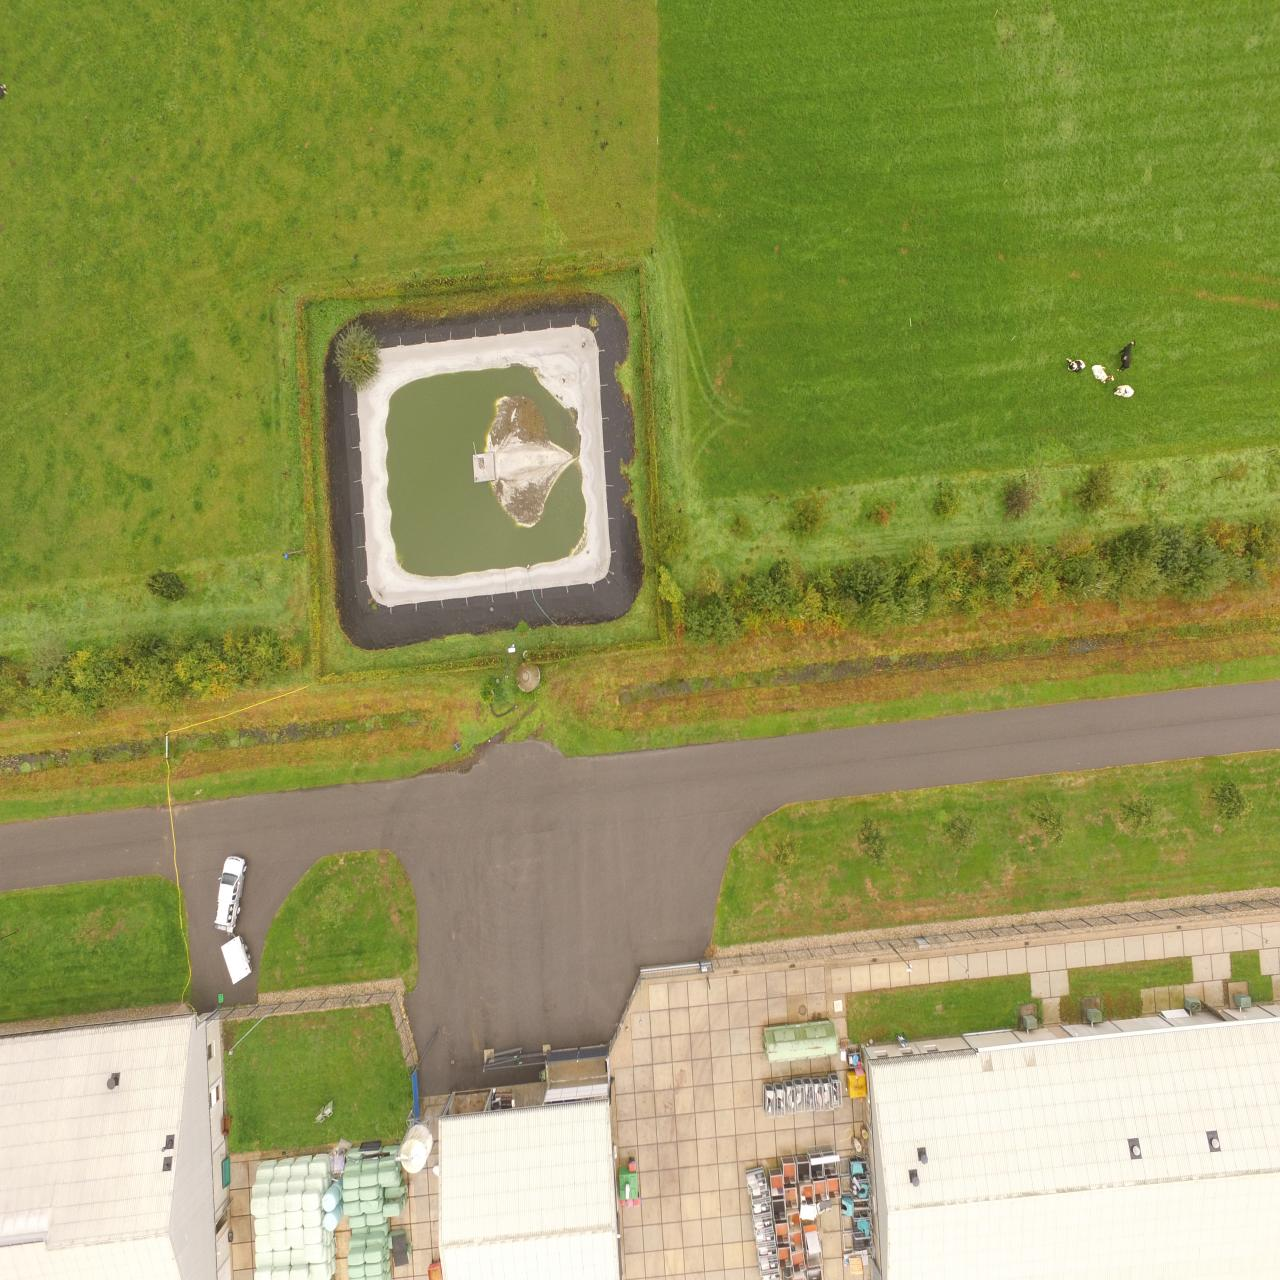cow: (1117, 340, 1136, 372), (1091, 365, 1114, 383), (1065, 358, 1085, 372), (1114, 384, 1135, 397)
